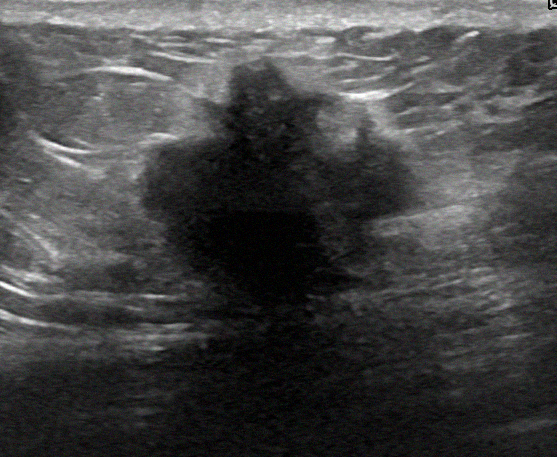Malignant: (220, 60, 317, 169)
